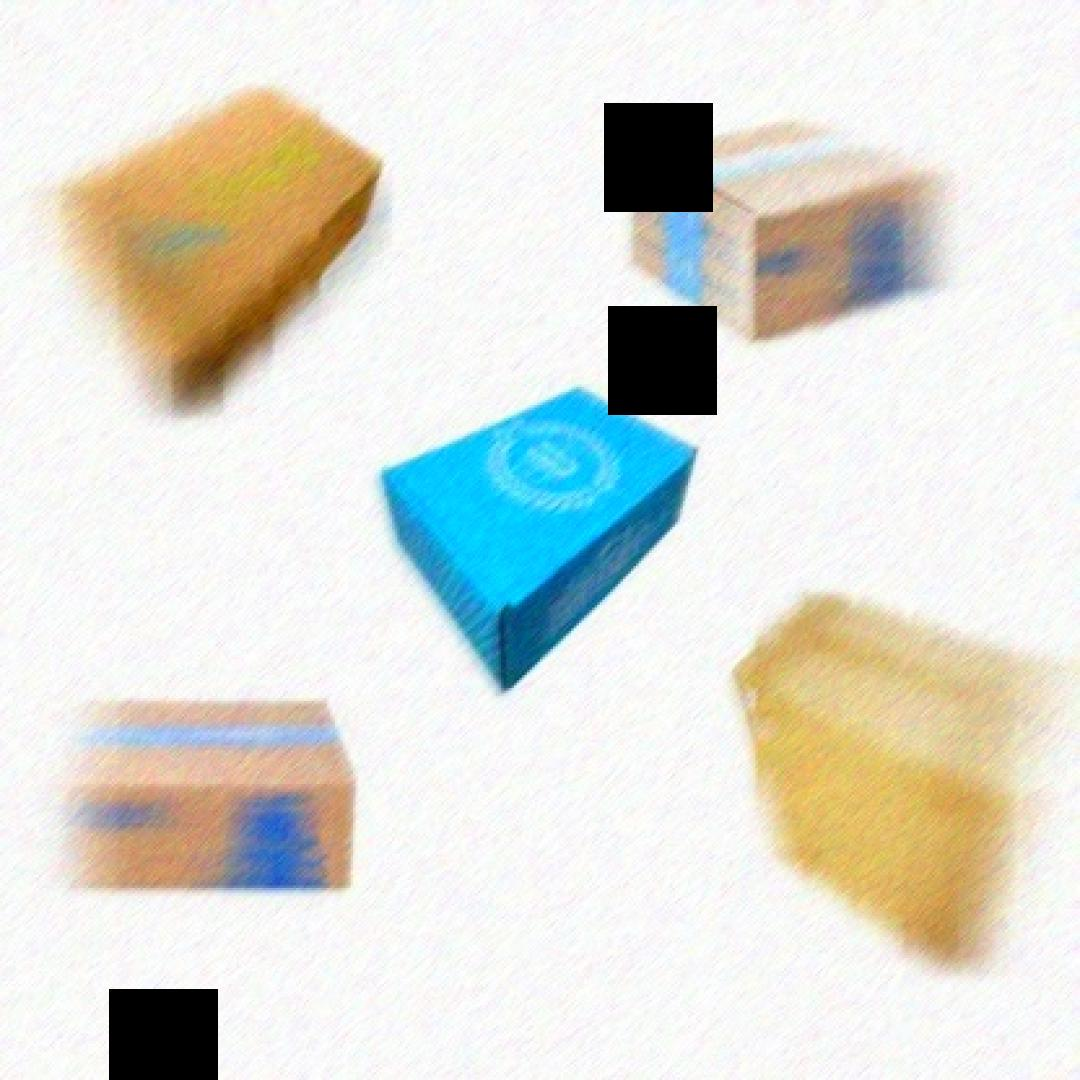package: (740, 590, 1054, 974), (70, 80, 384, 418), (386, 384, 704, 688), (638, 120, 934, 340), (86, 698, 356, 888)
